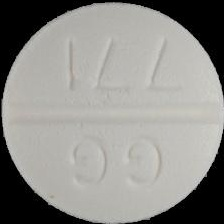49999-108: (0, 0, 224, 224)
